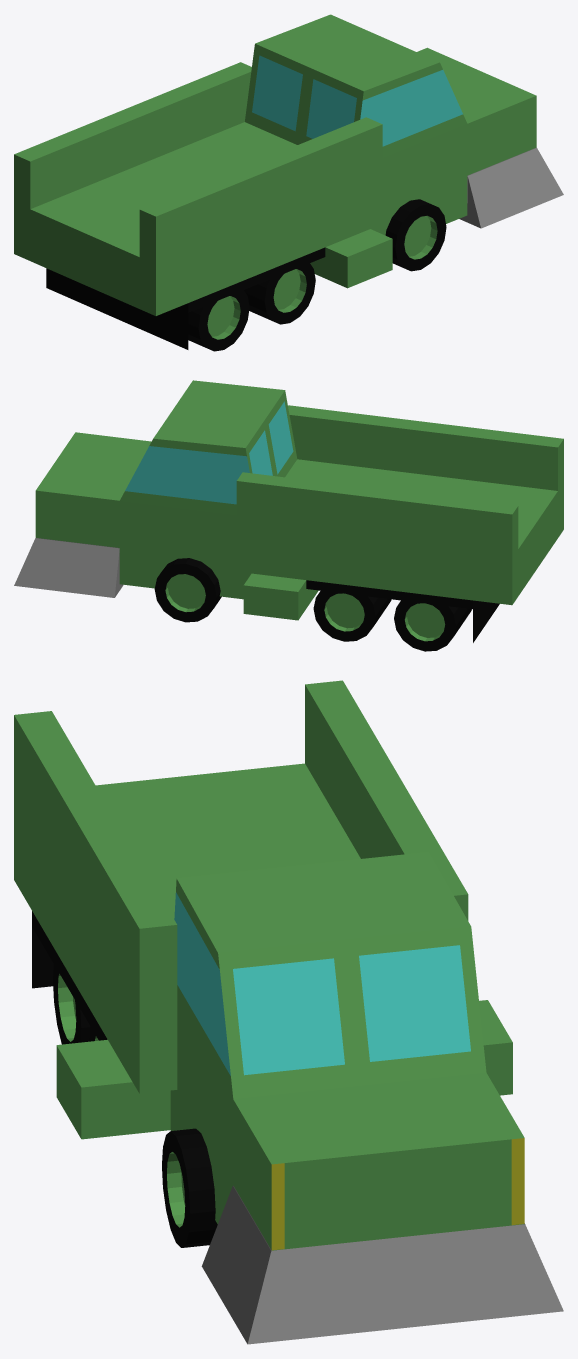
File: militarytank.fbx
The picture shows the model from 3 angles, top to bottom: view 1: azimuth 30°, elevation 25°; view 2: azimuth 150°, elevation 25°; view 3: azimuth 270°, elevation 25°; orthographic projection. The views are drawn at different scales.
Parts seen in each view (by area): view 1: Cube; view 2: Cube; view 3: Cube.
Boxes of the visible parts, x1=… form: Cube: x1=14, y1=14, x2=563, y2=351; Cube: x1=14, y1=380, x2=563, y2=651; Cube: x1=14, y1=680, x2=563, y2=1344.
Bounding box in the file's own units: 764 × 269 × 422.
